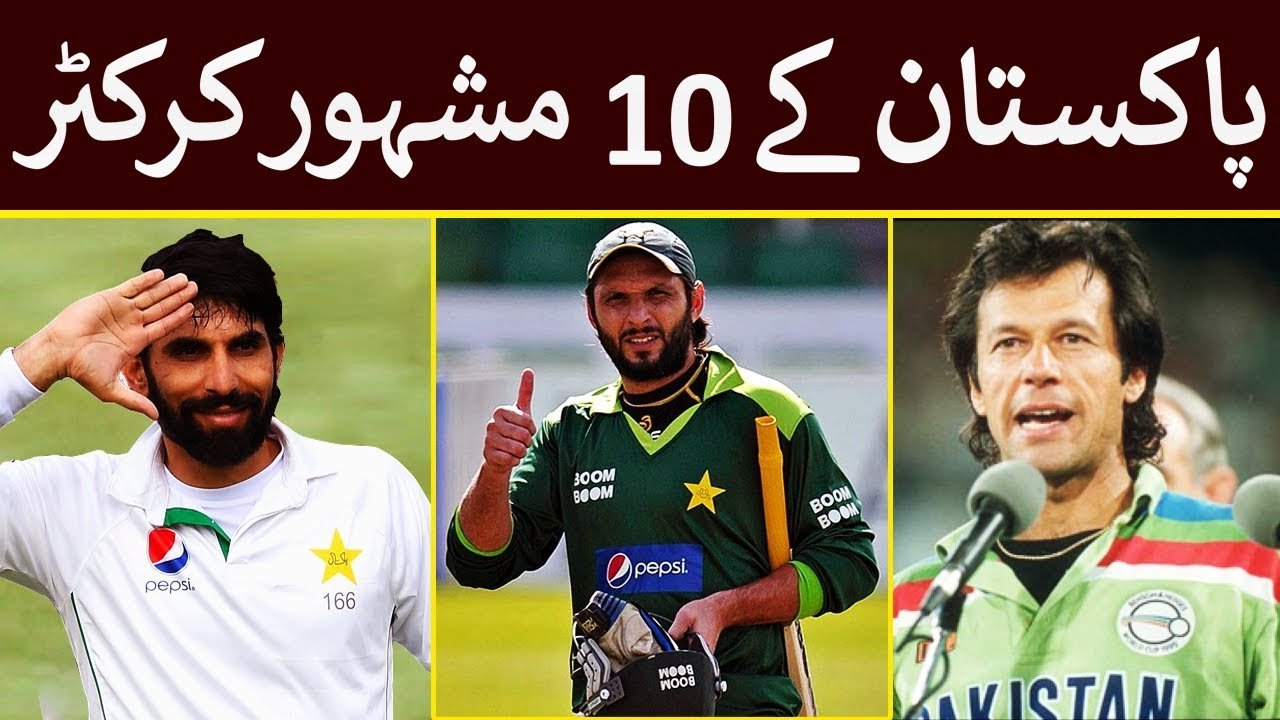NoMask: (984, 316, 1110, 481), (157, 319, 277, 463), (597, 276, 683, 378)
